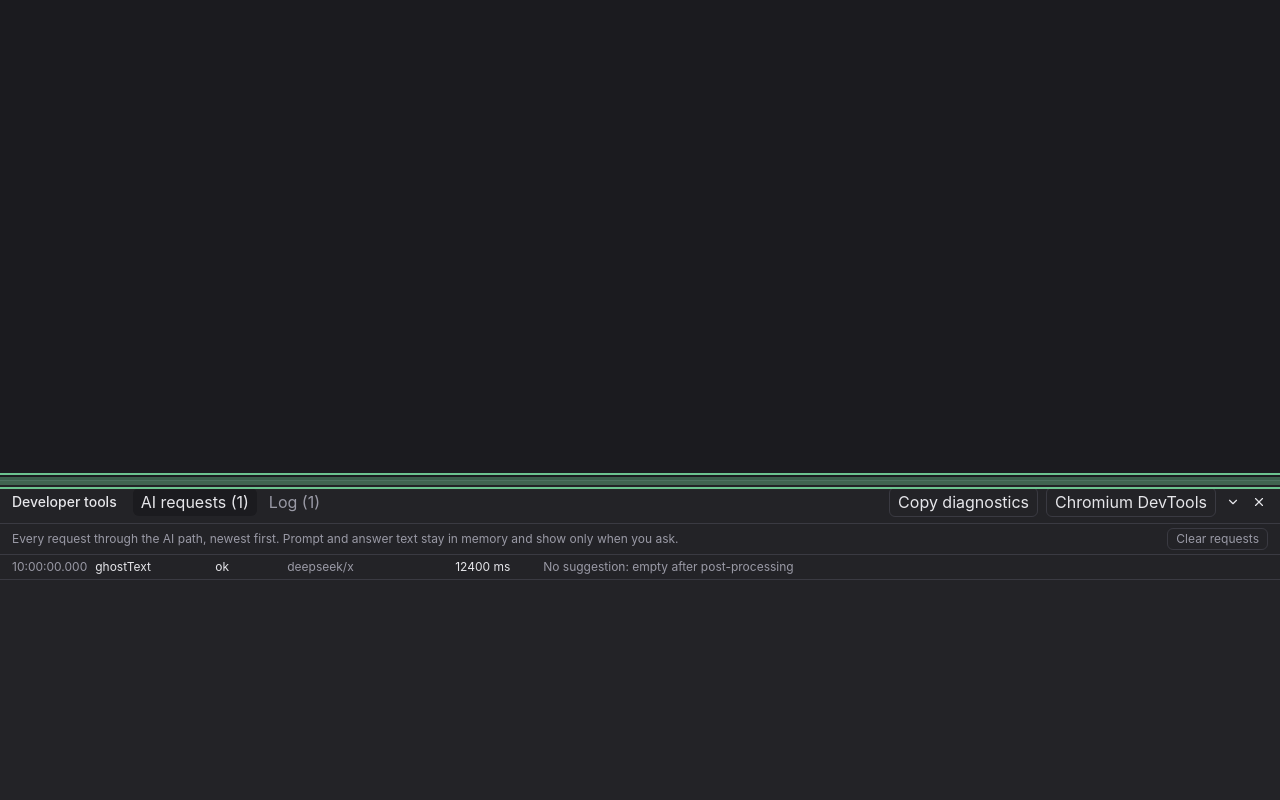
Scenario: DevToolsPanel (2026-10-07) › minimizes to its bar and back, and resizes from its top edge with the keyboard (2026-10-08)
Press Arrowup
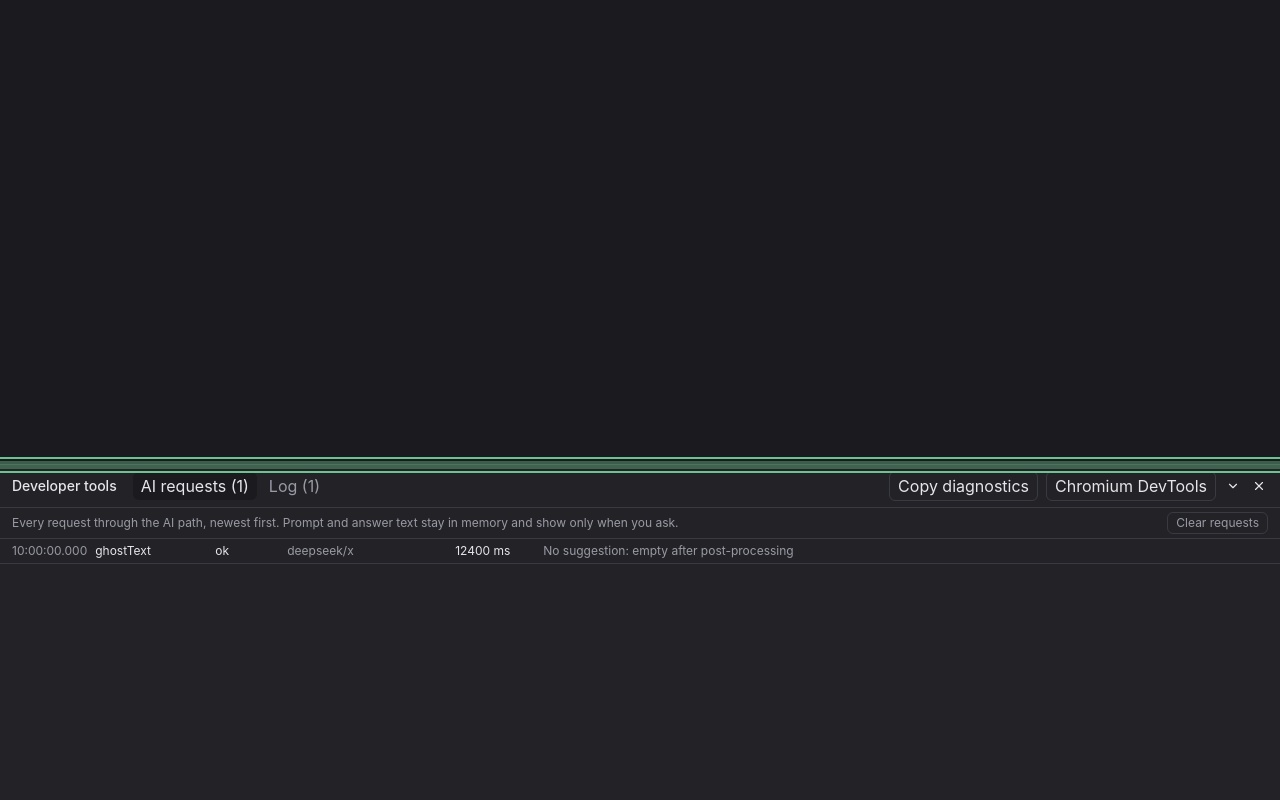
Click the button named "Minimize developer tools". click: [1233, 486]
box: [1224,477,1242,495]
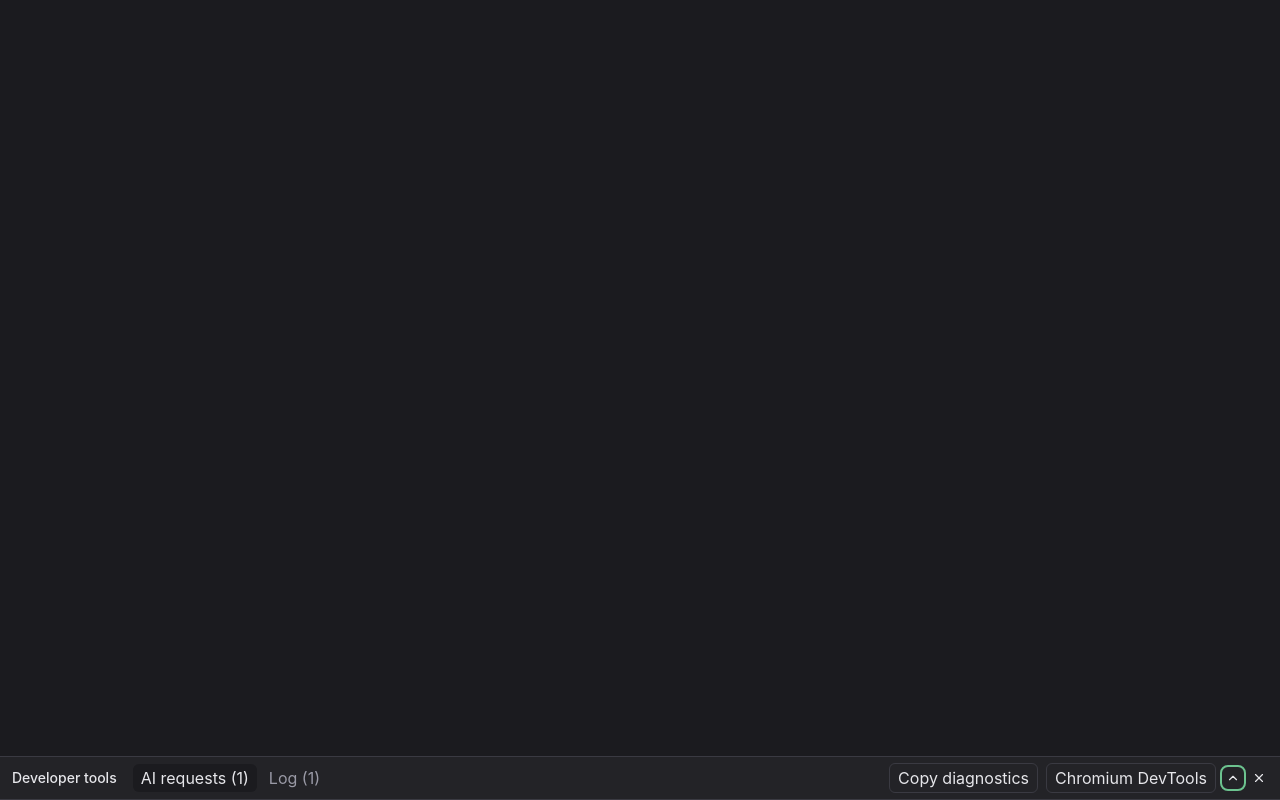
Now the list item with test id "devtools-request" is gone
Click the button named "Expand developer tools". click: [1233, 778]
box: [1224,769,1242,787]
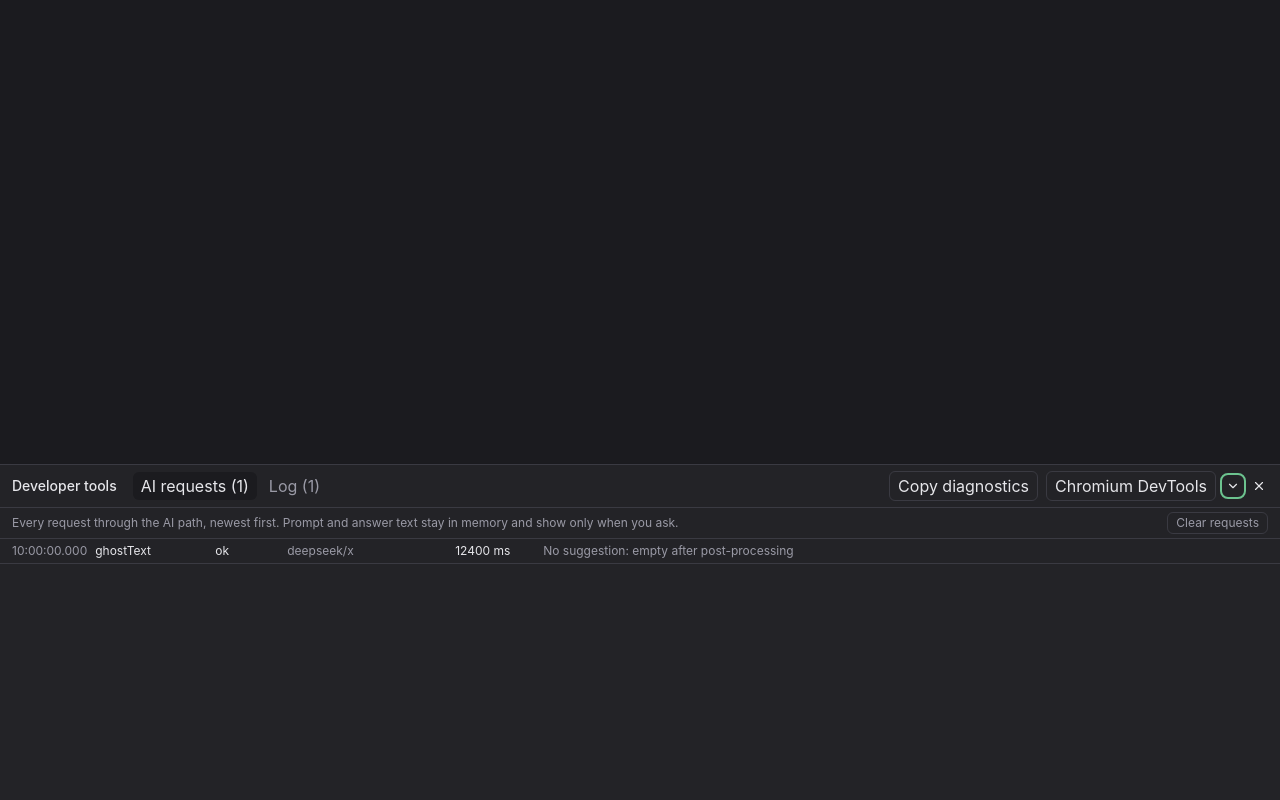
Now the list item with test id "devtools-request" is shown, box [0,539,1279,564]
